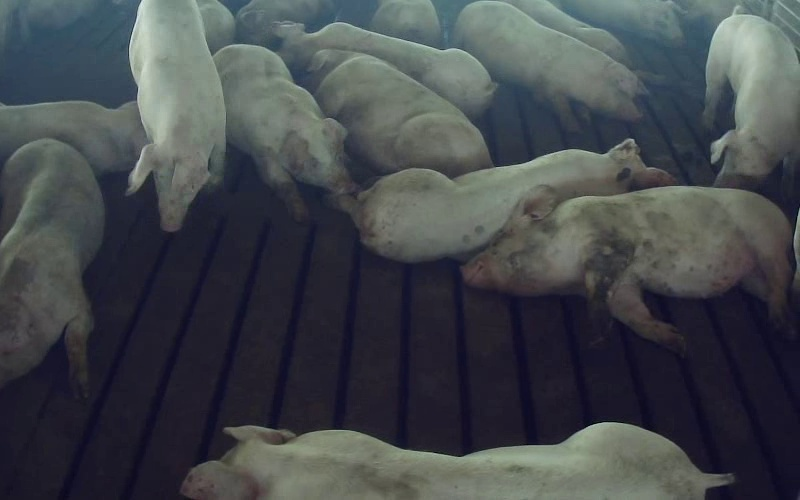pig: (462, 186, 791, 353), (181, 423, 733, 499), (335, 139, 675, 262), (0, 139, 103, 396), (213, 45, 355, 220), (454, 2, 643, 130), (305, 49, 491, 176), (704, 14, 799, 189)
